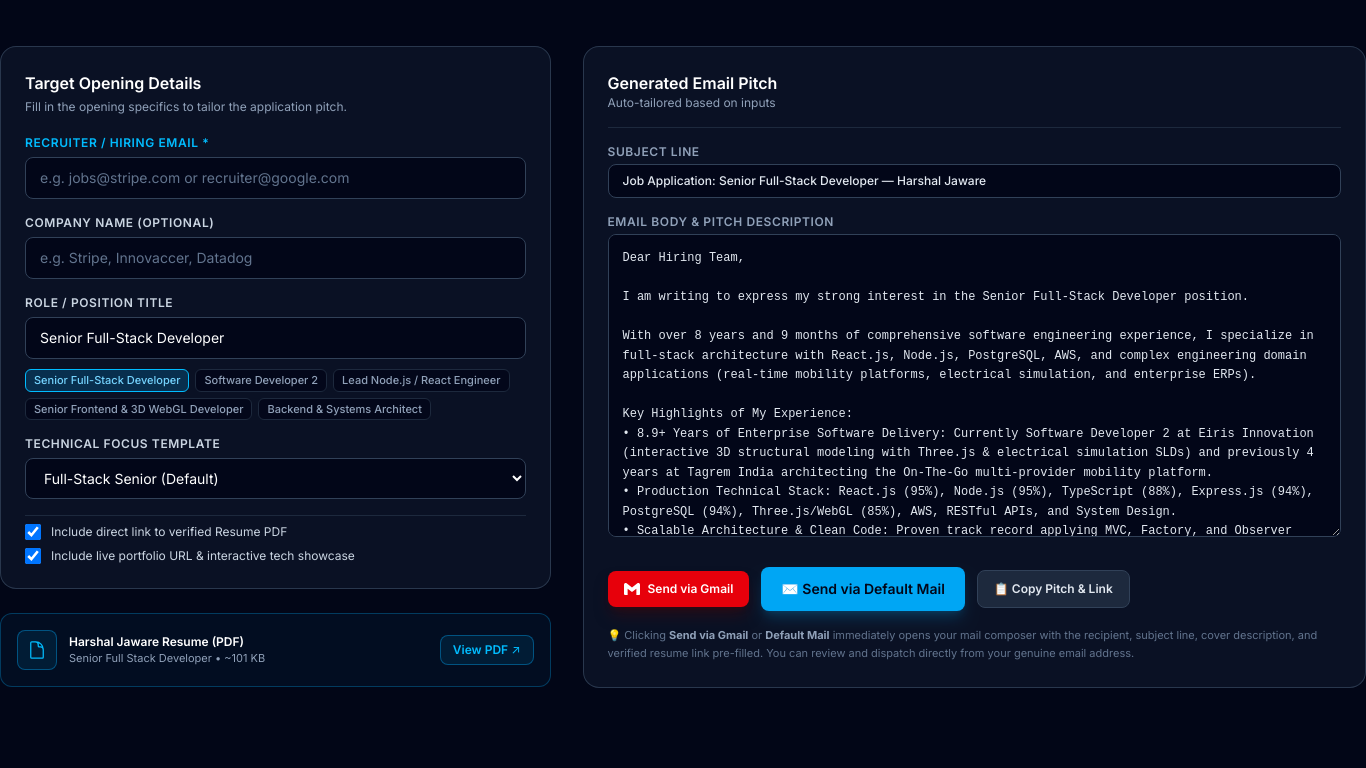
Test: QuickApply › shows error when sending without an email
The image size is (1366, 768).
(page scrolled)
Click the button "Send via Gmail" at (678, 589), box [608,571,749,607]
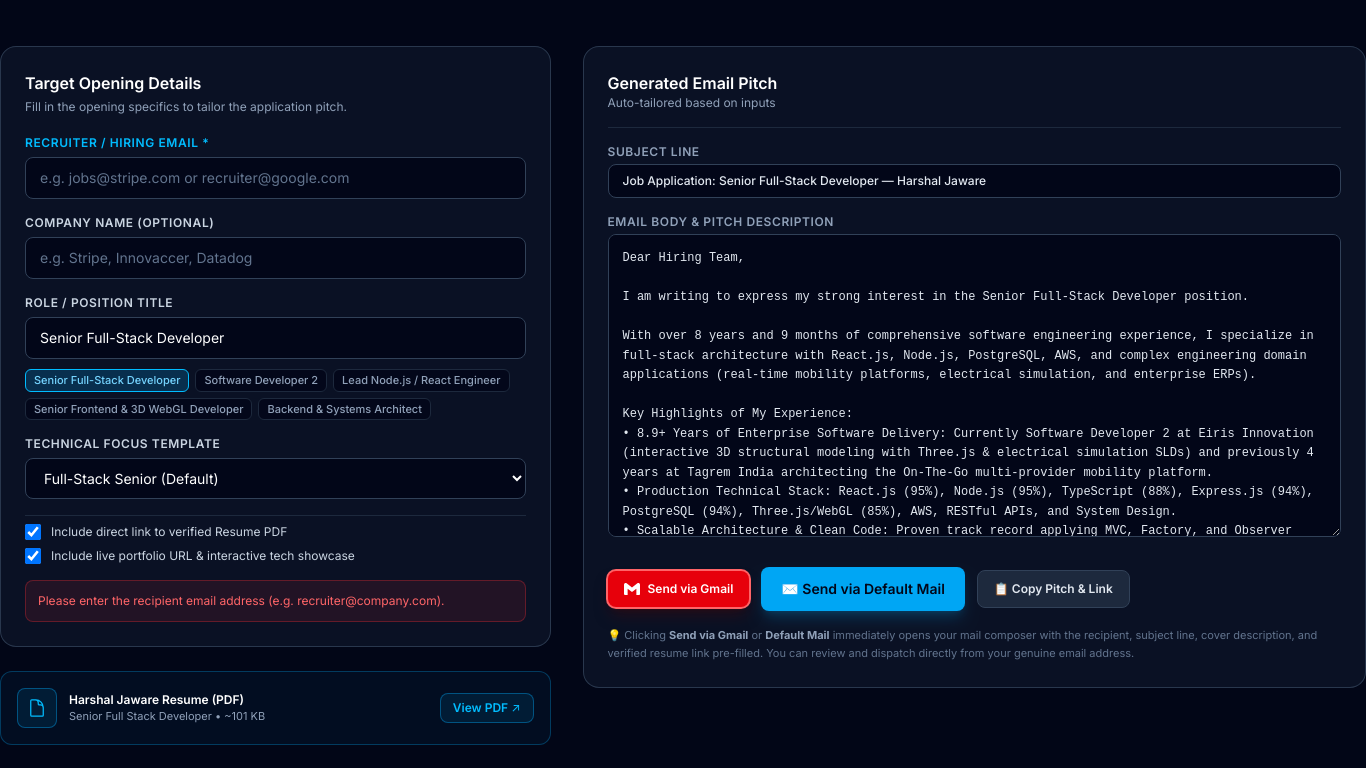
Check: the text "Please enter the recipient email address" is shown, box [38,593,444,608]
